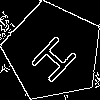H: (28, 27, 87, 85)
